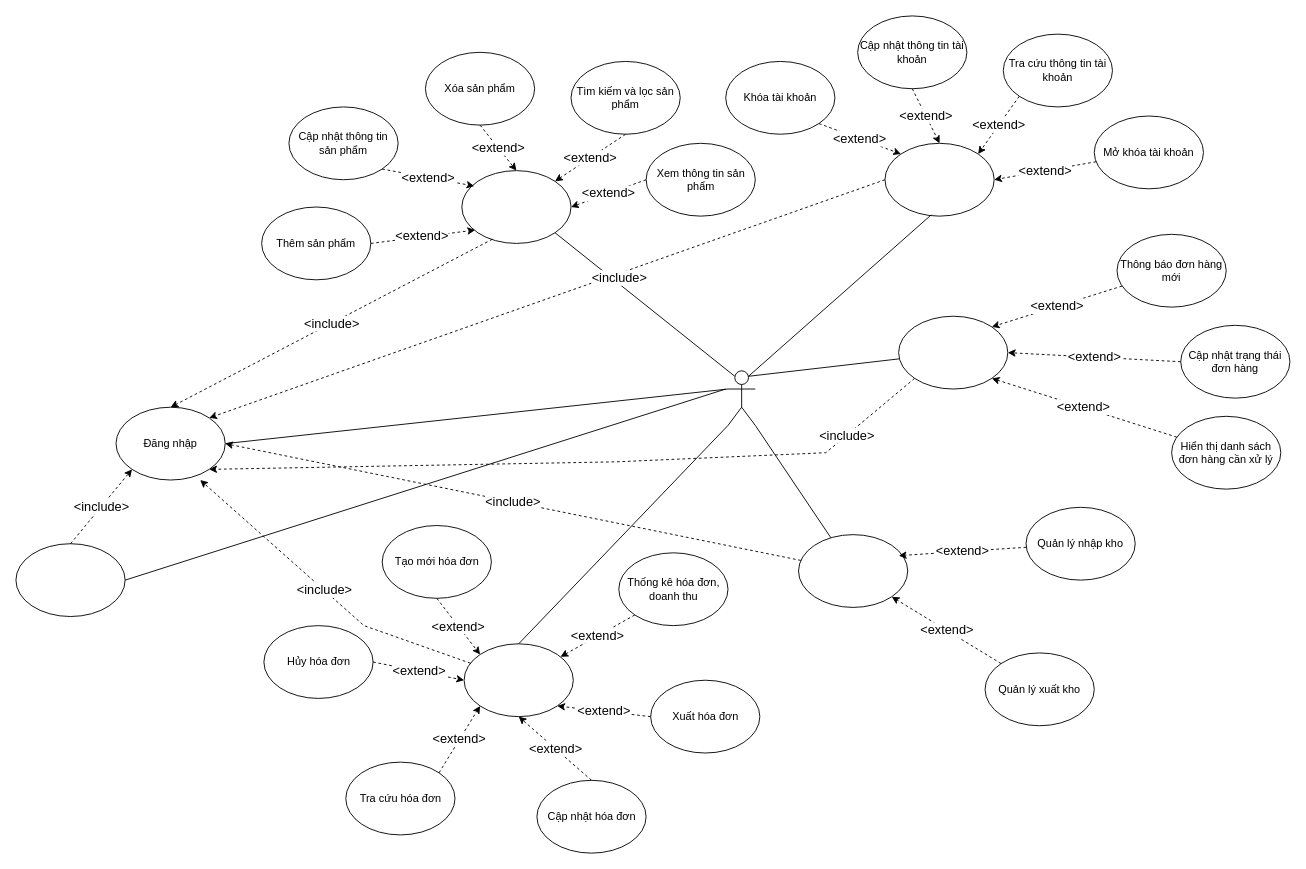
Image size: 1306x869. Some labels were removed from this diagram. The shapes that lost their labels are listed below. From the top down, each one's centre as x and y in pixels, then its label:
At point (939, 179): "Quản lý tài khoản".
At point (516, 206): "Quản lý sản phảm".
At point (953, 352): "Quản lý đơn đặt hàng".
At point (741, 397): "Administrator".
At point (70, 580): "Đăng xuất".
At point (853, 570): "Quản lý kho hàng".
At point (518, 680): "Quản lý hóa đơn".
